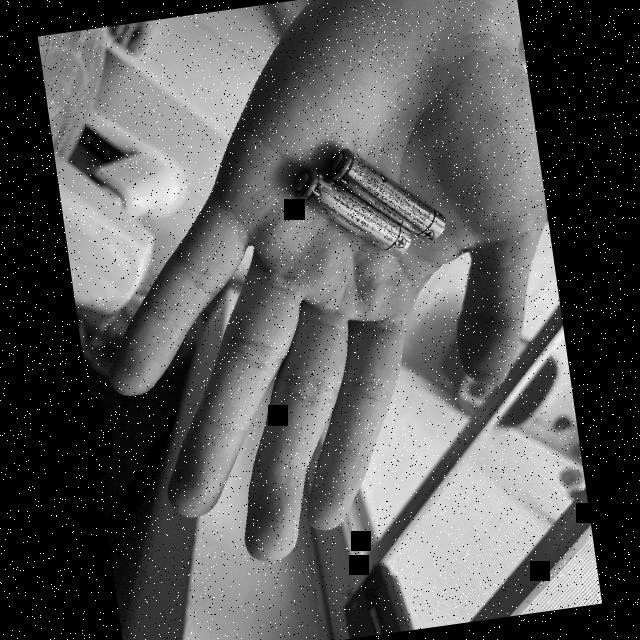battery: (327, 148, 447, 243), (292, 166, 413, 259)
